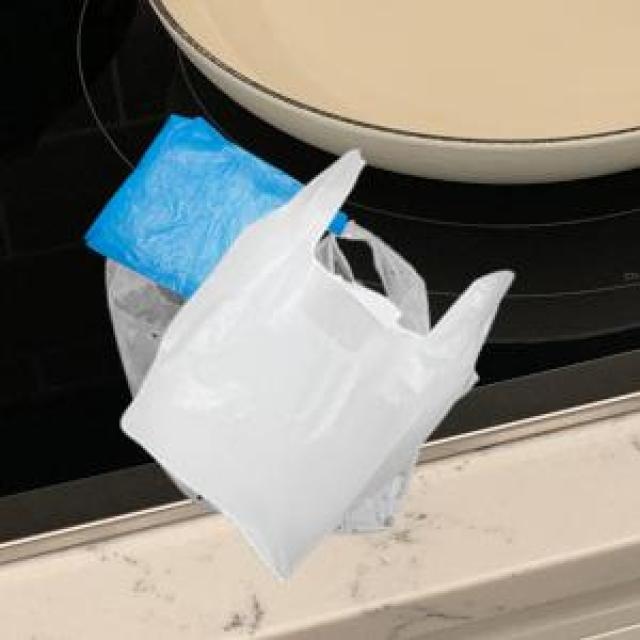plastic: (59, 96, 524, 602)
